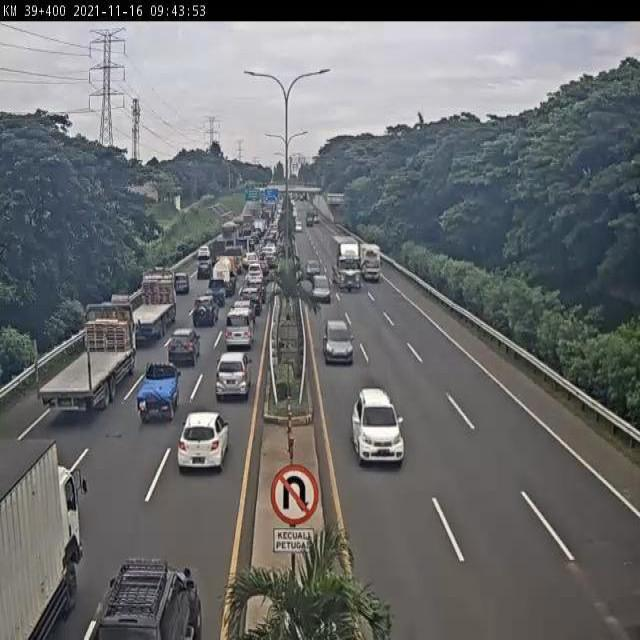car: (353, 386, 406, 466), (177, 410, 230, 478), (136, 363, 181, 421), (215, 352, 254, 405), (322, 319, 355, 364), (168, 325, 201, 368), (225, 308, 254, 349), (192, 294, 219, 329), (208, 279, 228, 305), (173, 271, 191, 297)
truck-l-: (36, 303, 143, 416), (125, 271, 175, 348)
